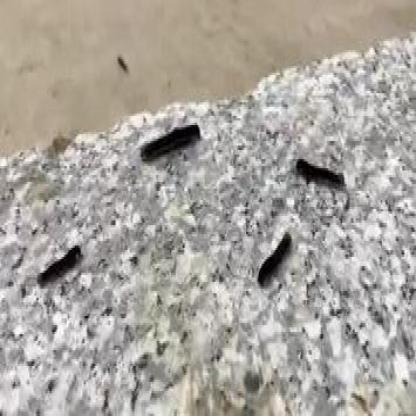armyworm: (32, 237, 84, 292), (137, 120, 202, 162), (258, 230, 296, 289), (296, 155, 347, 191)
